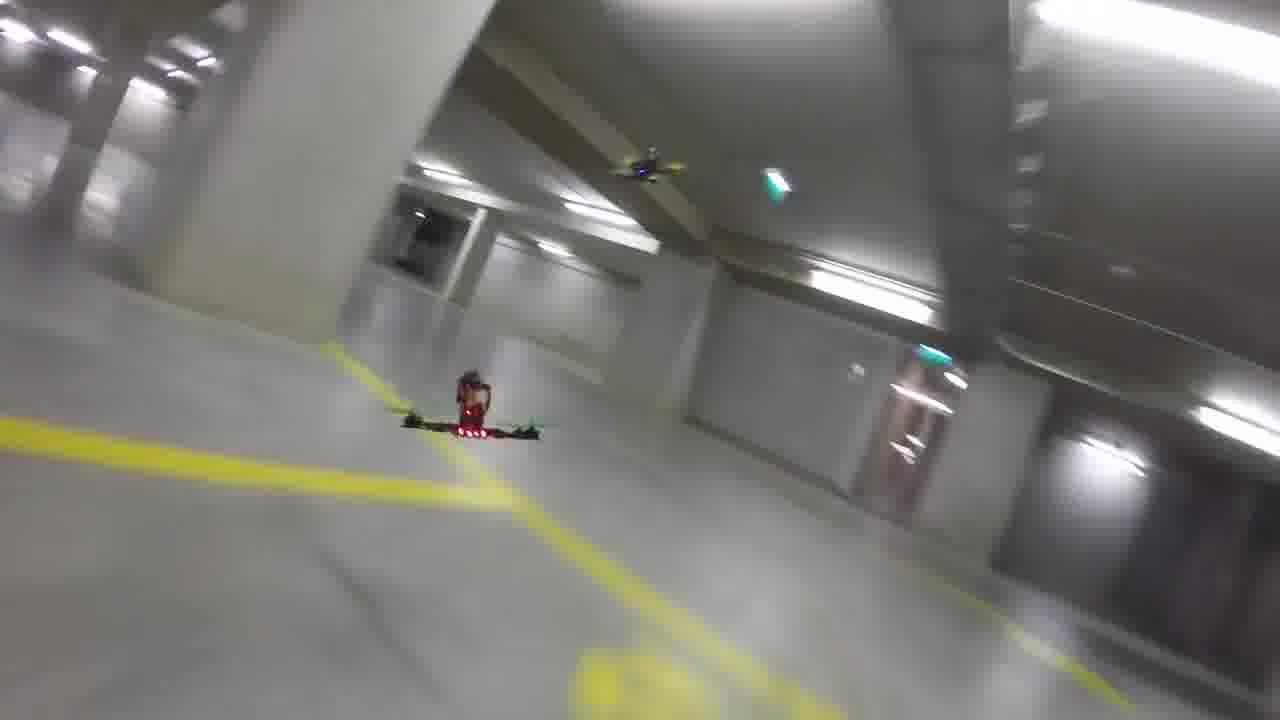drone: (380, 357, 553, 467), (595, 143, 699, 206)
